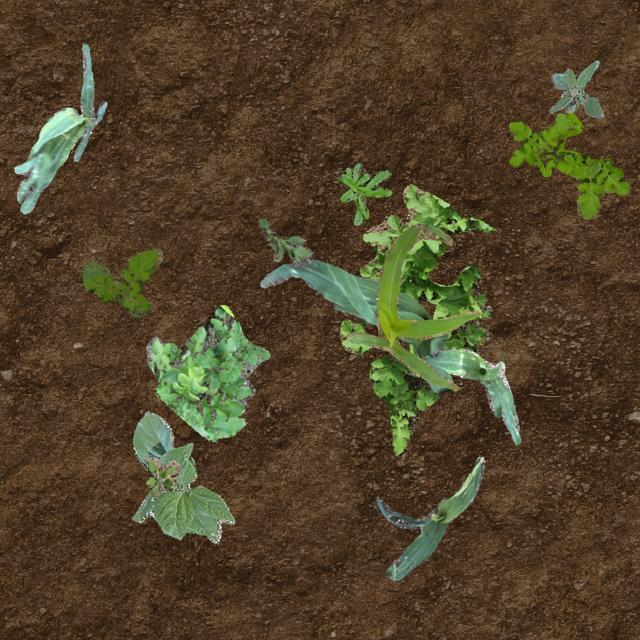crop: (259, 258, 451, 392), (346, 222, 480, 390), (14, 43, 106, 213), (374, 456, 484, 580), (132, 411, 234, 542), (420, 346, 520, 444)
weed: (338, 182, 491, 456), (146, 304, 268, 438), (508, 112, 628, 218), (81, 247, 162, 316), (338, 160, 390, 224), (549, 60, 603, 119), (256, 218, 312, 260), (144, 456, 180, 496)
